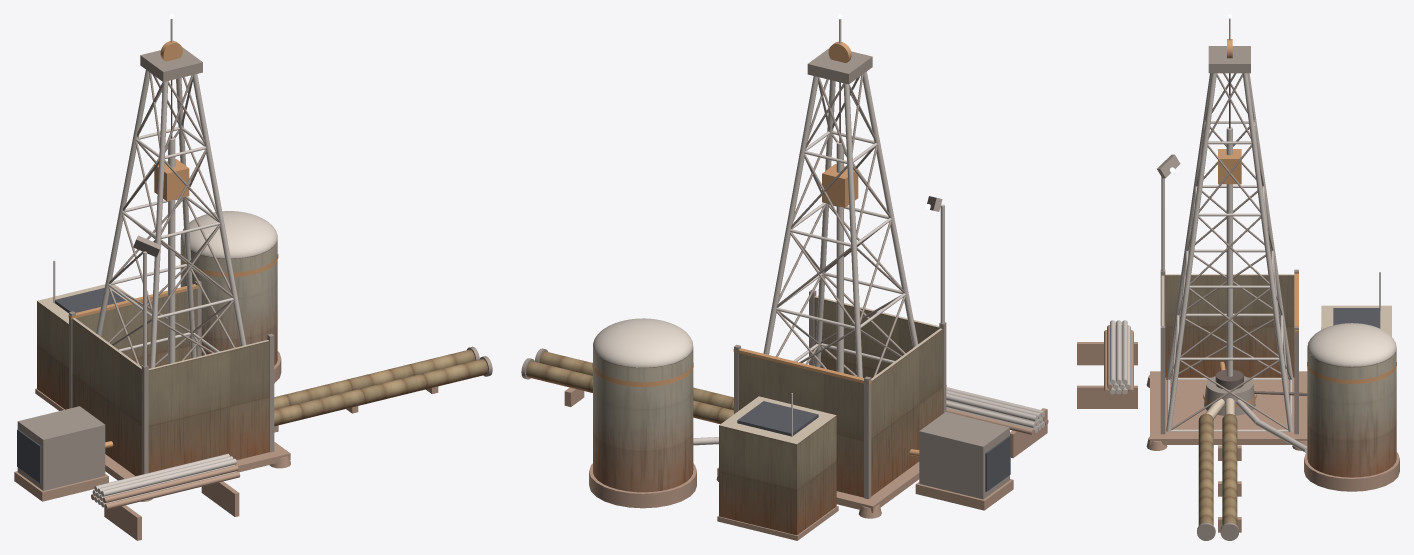
File: E11_ice_drill_rig_stage2.glb
The picture shows the model from 3 angles, left to right: view 1: azimuth 30°, elevation 25°; view 2: azimuth 150°, elevation 25°; view 3: azimuth 270°, elevation 25°; orthographic projection. The views are drawn at different scales.
Parts seen in each view (by area): view 1: wind_screen (×3), derrick_leg (×4), melt_water_tank, heater_unit, insulated_pipe_2, cabin, tank_head, drill_rod (×3), insulated_pipe, rack_post (×2), screen_post (×2), drill_string (+6 smaller); view 2: wind_screen (×3), cabin, melt_water_tank, derrick_leg (×4), heater_unit, tank_head, tank_skirt, insulated_pipe, roof_radiator, crown_block, drill_string, deck (+9 smaller); view 3: melt_water_tank, wind_screen, derrick_leg (×4), deck, tank_head, rack_post (×2), insulated_pipe_2, insulated_pipe, tank_skirt, drill_string, screen_post (×2), crown_block (+8 smaller).
Part boxes in pixels (x1=…): wind_screen (×3): x1=72, y1=288, x2=269, y2=475; derrick_leg (×4): x1=96, y1=70, x2=246, y2=368; melt_water_tank: x1=180, y1=240, x2=277, y2=365; heater_unit: x1=17, y1=406, x2=105, y2=490; insulated_pipe_2: x1=274, y1=359, x2=487, y2=426; cabin: x1=37, y1=284, x2=131, y2=409; tank_head: x1=180, y1=211, x2=277, y2=258; drill_rod (×3): x1=101, y1=458, x2=240, y2=509; insulated_pipe: x1=274, y1=349, x2=475, y2=409; rack_post (×2): x1=104, y1=481, x2=239, y2=540; screen_post (×2): x1=141, y1=333, x2=274, y2=474; drill_string: x1=168, y1=137, x2=175, y2=363; wind_screen (×3): x1=739, y1=296, x2=942, y2=497; cabin: x1=719, y1=396, x2=836, y2=535; melt_water_tank: x1=593, y1=348, x2=693, y2=492; derrick_leg (×4): x1=763, y1=71, x2=918, y2=377; heater_unit: x1=919, y1=412, x2=1009, y2=499; tank_head: x1=593, y1=318, x2=693, y2=367; tank_skirt: x1=589, y1=463, x2=696, y2=508; insulated_pipe: x1=526, y1=361, x2=733, y2=424; roof_radiator: x1=737, y1=401, x2=818, y2=436; crown_block: x1=807, y1=48, x2=872, y2=84; drill_string: x1=836, y1=141, x2=843, y2=373; deck: x1=717, y1=462, x2=919, y2=512; melt_water_tank: x1=1307, y1=349, x2=1396, y2=477; wind_screen: x1=1165, y1=274, x2=1294, y2=377; derrick_leg (×4): x1=1166, y1=73, x2=1293, y2=431; deck: x1=1150, y1=371, x2=1307, y2=444; tank_head: x1=1307, y1=323, x2=1396, y2=366; rack_post (×2): x1=1077, y1=342, x2=1137, y2=408; insulated_pipe_2: x1=1198, y1=413, x2=1213, y2=525; insulated_pipe: x1=1222, y1=413, x2=1237, y2=525; tank_skirt: x1=1304, y1=452, x2=1399, y2=491; drill_string: x1=1226, y1=127, x2=1232, y2=376; screen_post (×2): x1=1160, y1=326, x2=1298, y2=434; crown_block: x1=1208, y1=46, x2=1250, y2=73.
Size of the model in its own units: 10.19 by 9.43 by 6.87.
14 materials, 4 textured.
